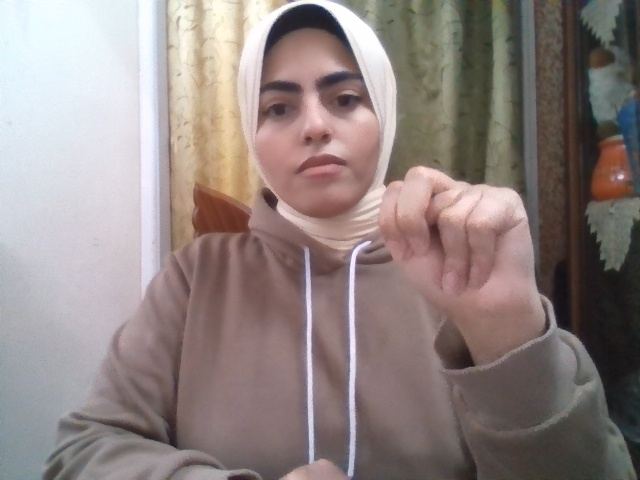N: (378, 166, 537, 316)
